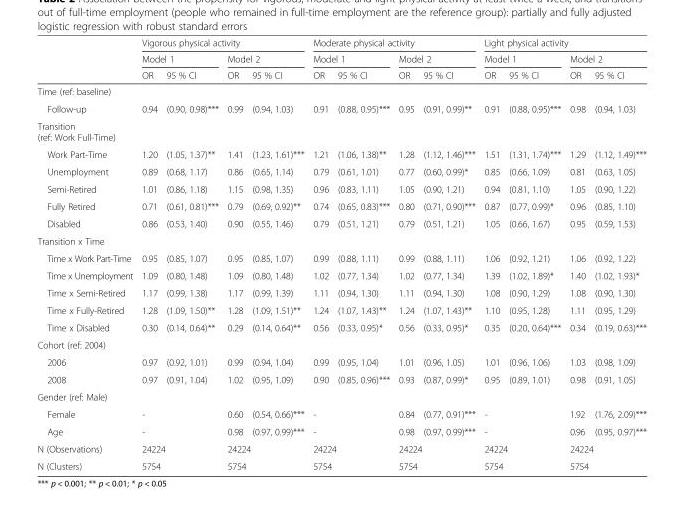table: (36, 36, 645, 471)
table column: (36, 36, 136, 471), (161, 36, 222, 471), (246, 36, 307, 471), (332, 36, 393, 471), (418, 36, 479, 471), (503, 36, 564, 471), (589, 36, 645, 471), (136, 36, 161, 471), (307, 36, 332, 471), (393, 36, 418, 471), (564, 36, 589, 471), (222, 36, 246, 471), (479, 36, 503, 471)
table column header: (36, 36, 645, 82)
table projected row header: (36, 117, 645, 145), (36, 231, 645, 249), (36, 335, 645, 353), (36, 387, 645, 405), (36, 82, 645, 99)
table row: (36, 117, 645, 145), (36, 99, 645, 117), (36, 162, 645, 180), (36, 231, 645, 249), (36, 283, 645, 301), (36, 335, 645, 353), (36, 387, 645, 405), (36, 439, 645, 457), (36, 82, 645, 99), (36, 145, 645, 162), (36, 180, 645, 197), (36, 197, 645, 214), (36, 214, 645, 231), (36, 249, 645, 266), (36, 266, 645, 283), (36, 301, 645, 318), (36, 318, 645, 335), (36, 353, 645, 370), (36, 370, 645, 387), (36, 405, 645, 422), (36, 422, 645, 439), (36, 50, 645, 66), (36, 66, 645, 82), (36, 36, 645, 50), (36, 457, 645, 471)
table spanning cell: (307, 36, 479, 50), (136, 36, 307, 50), (479, 36, 645, 50), (136, 439, 222, 457), (307, 439, 393, 457), (393, 439, 479, 457), (222, 439, 307, 457), (479, 439, 564, 457), (564, 439, 645, 457), (136, 50, 222, 66), (307, 50, 393, 66), (393, 50, 479, 66), (222, 50, 307, 66), (479, 50, 564, 66), (564, 50, 645, 66), (136, 457, 222, 471), (307, 457, 393, 471), (393, 457, 479, 471), (222, 457, 307, 471), (479, 457, 564, 471), (564, 457, 645, 471)
